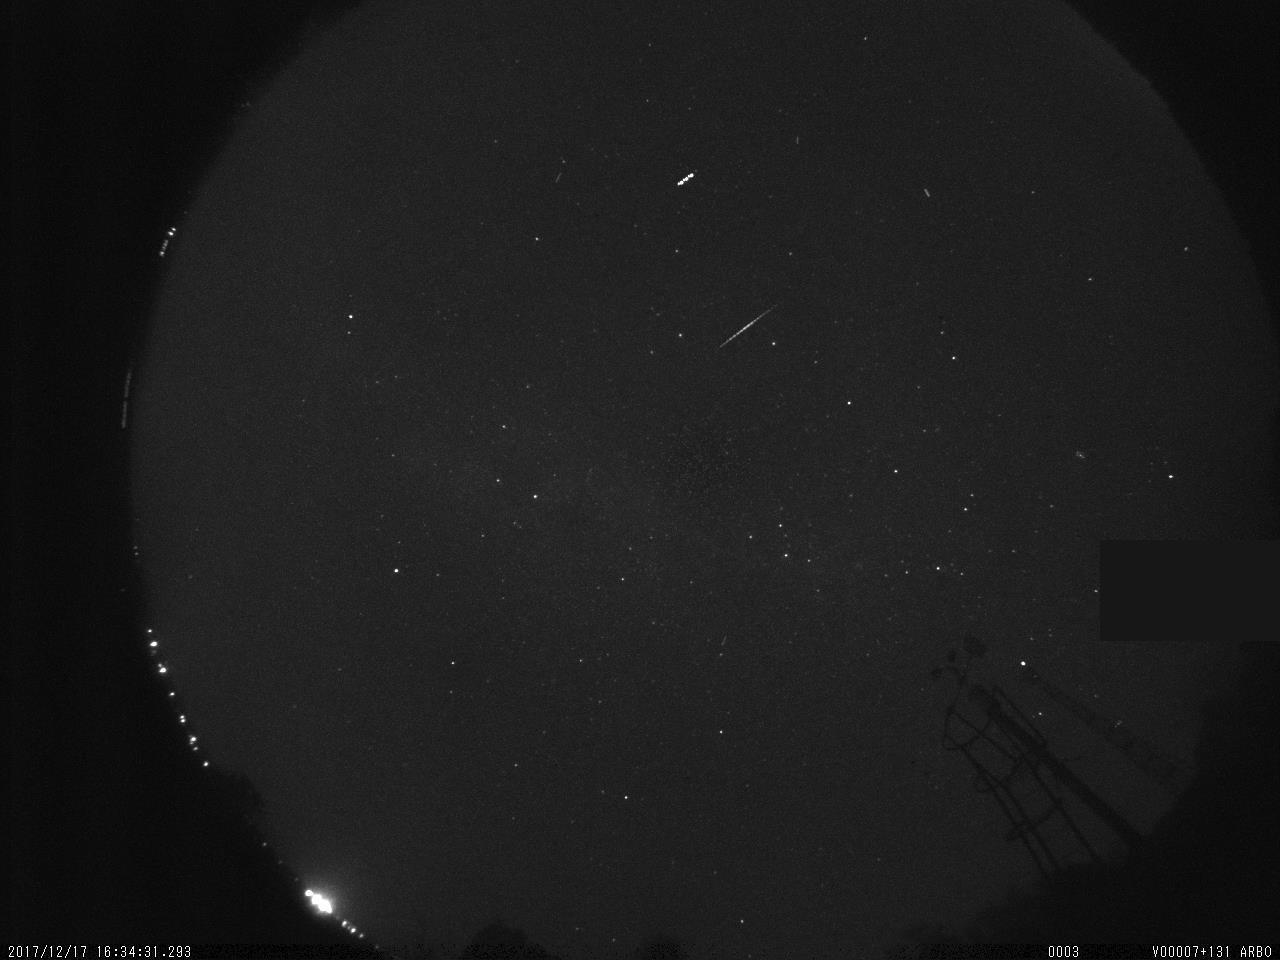meteor: (716, 295, 787, 356)
satelite: (669, 165, 701, 195)
